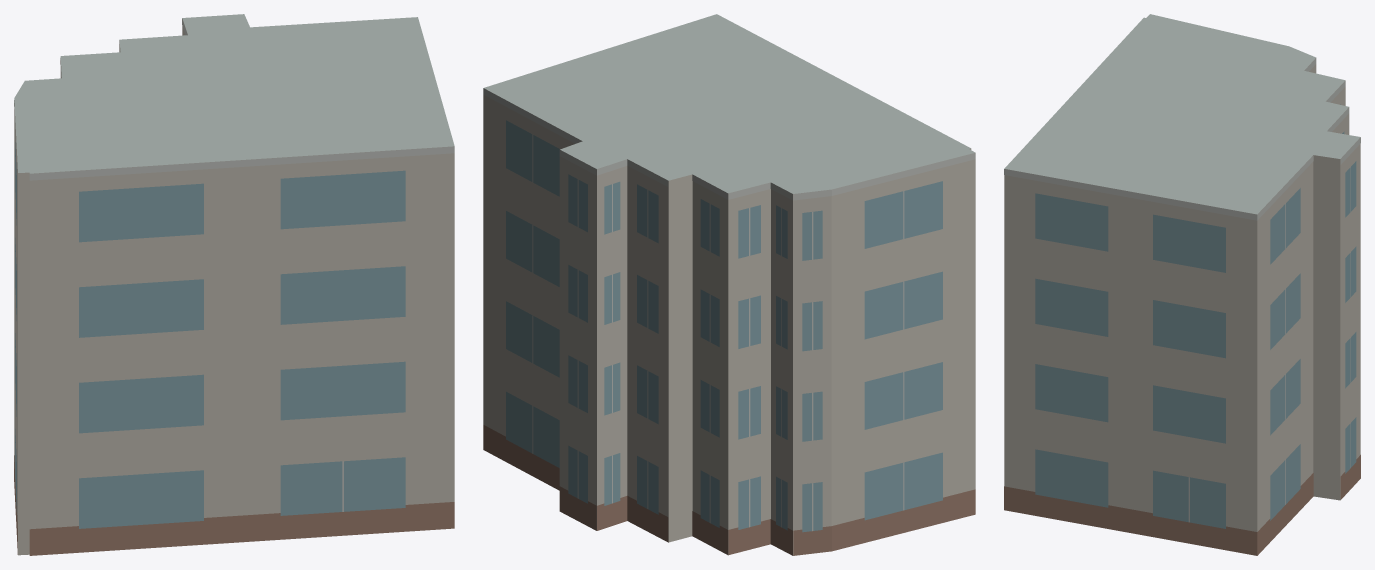
Rendered from survey-upis-32672291.glb.
3 renders of one model, left to right at view 1: azimuth 30°, elevation 25°; view 2: azimuth 150°, elevation 25°; view 3: azimuth 270°, elevation 25°, orthographic. The views are drawn at different scales.
Visible parts, largest first — view 1: survey-upis-32672291.tmp; view 2: survey-upis-32672291.tmp; view 3: survey-upis-32672291.tmp.
Part boxes in pixels (x1=…): survey-upis-32672291.tmp: x1=14, y1=14, x2=454, y2=555; survey-upis-32672291.tmp: x1=483, y1=14, x2=975, y2=555; survey-upis-32672291.tmp: x1=1004, y1=14, x2=1360, y2=555.
Size of the model in its own units: 16.95 by 13.45 by 12.74.
